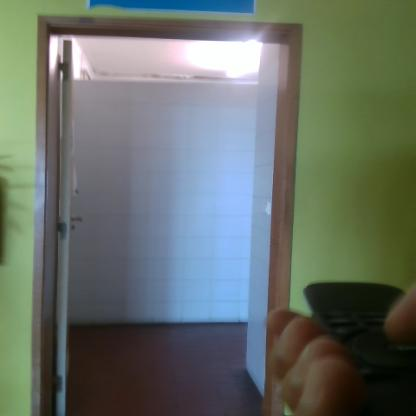open: (21, 7, 314, 398)
